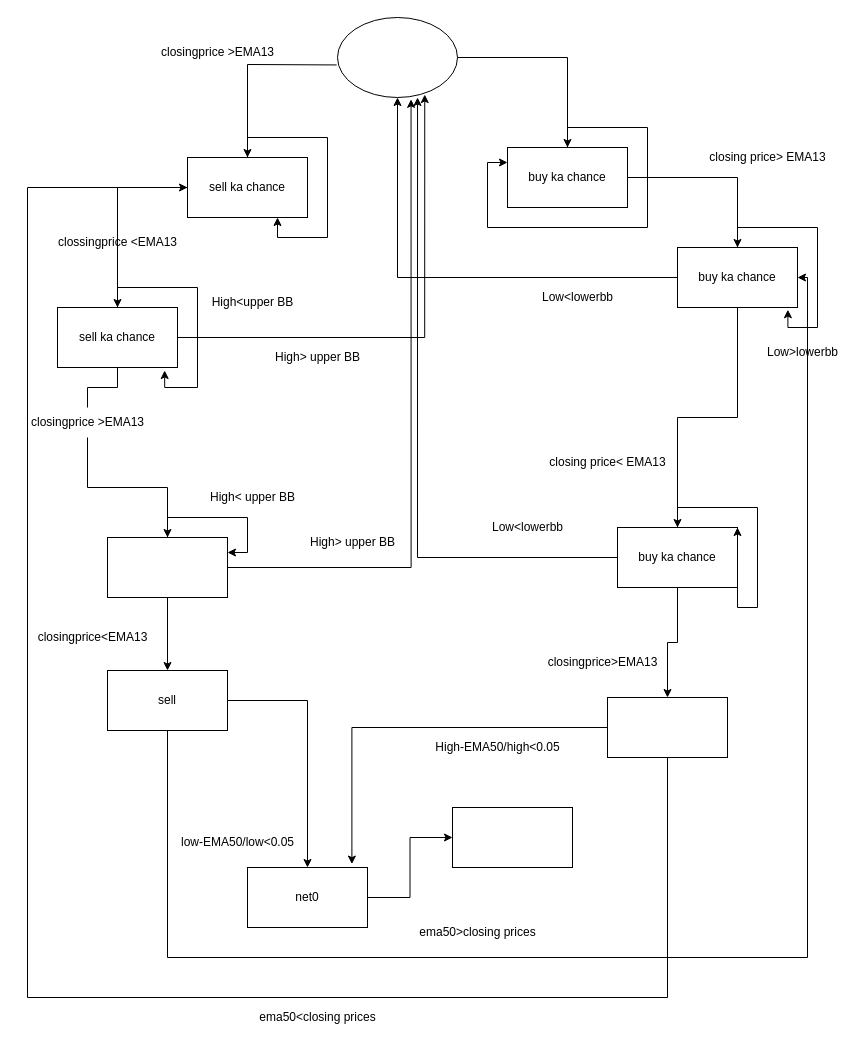
Some shapes in this 864 by 1050 pixel diagram are drawn without their labels. The shapes that lost their labels are listed below. From the top down, each one's centre as x and y in pixels, then its label:
the point at 397,57: origin
the point at 167,567: sell ka change
the point at 667,727: buy
the point at 512,837: go to origin
